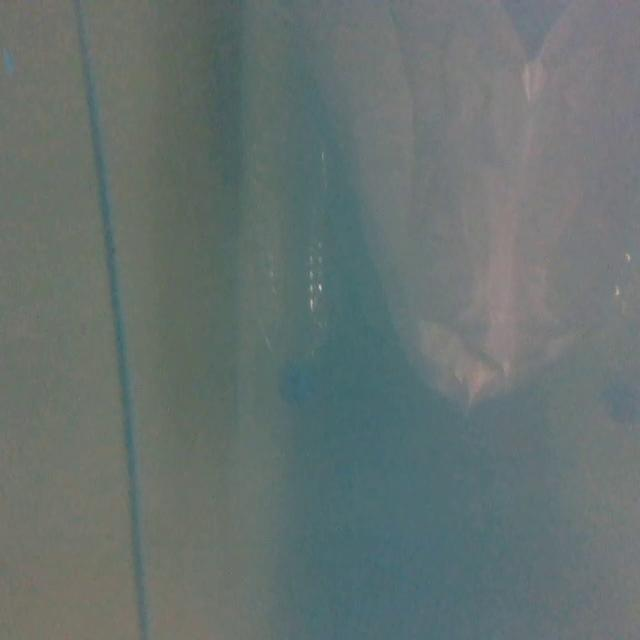plastic bags: (351, 9, 628, 383)
plastic bottle: (230, 111, 337, 409)
